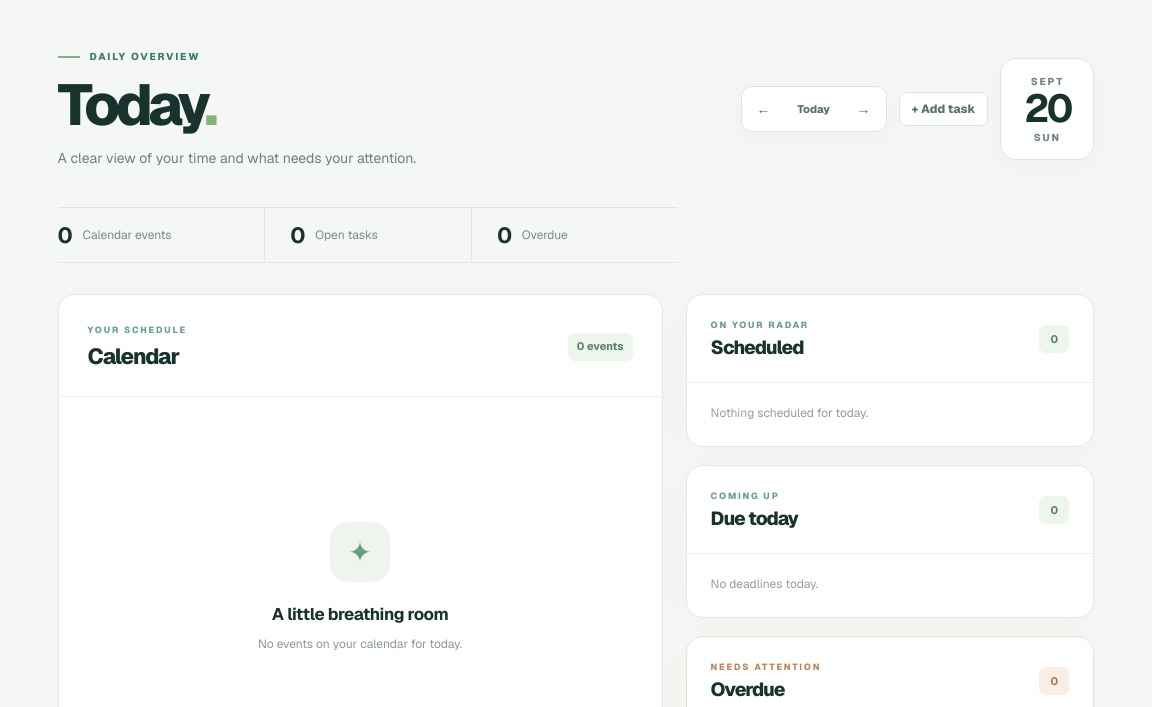
Test case: Day navigation › does not adopt a slow earlier load after a newer day was selected
Click the link named "Previous day": (764, 109) [757,100,771,118]
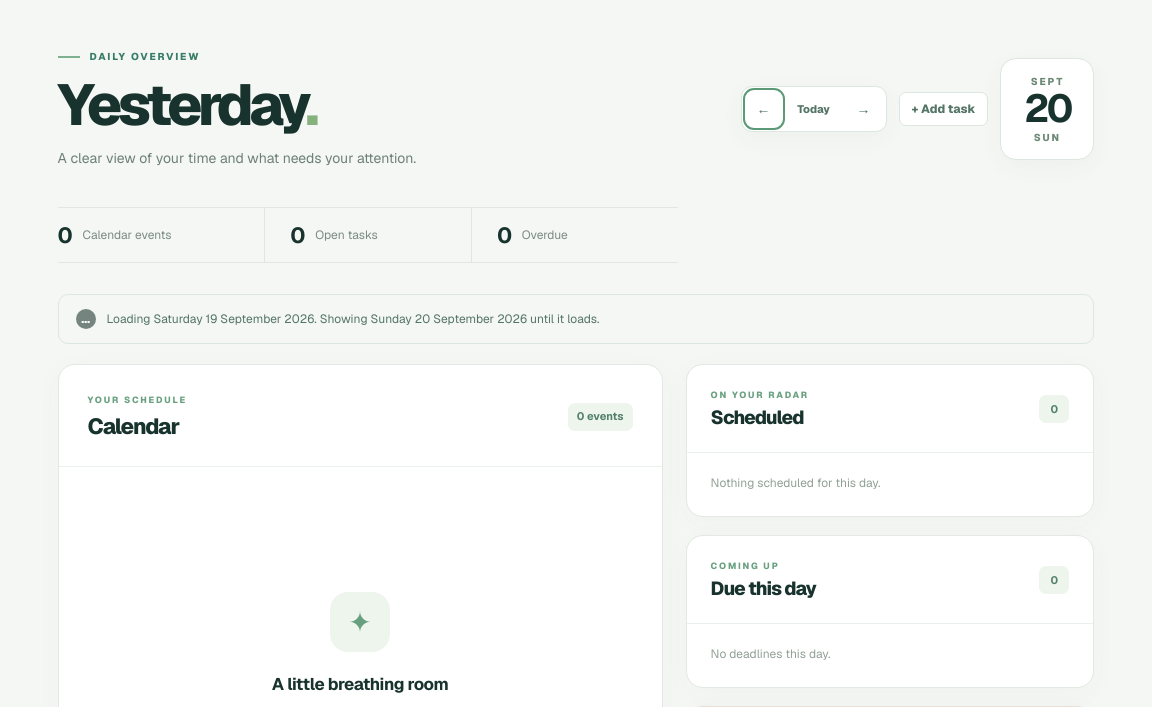
expect the heading "Yesterday." is shown: met, box [58,67,315,142]
Click the link "Today": (814, 109) [797,102,830,116]
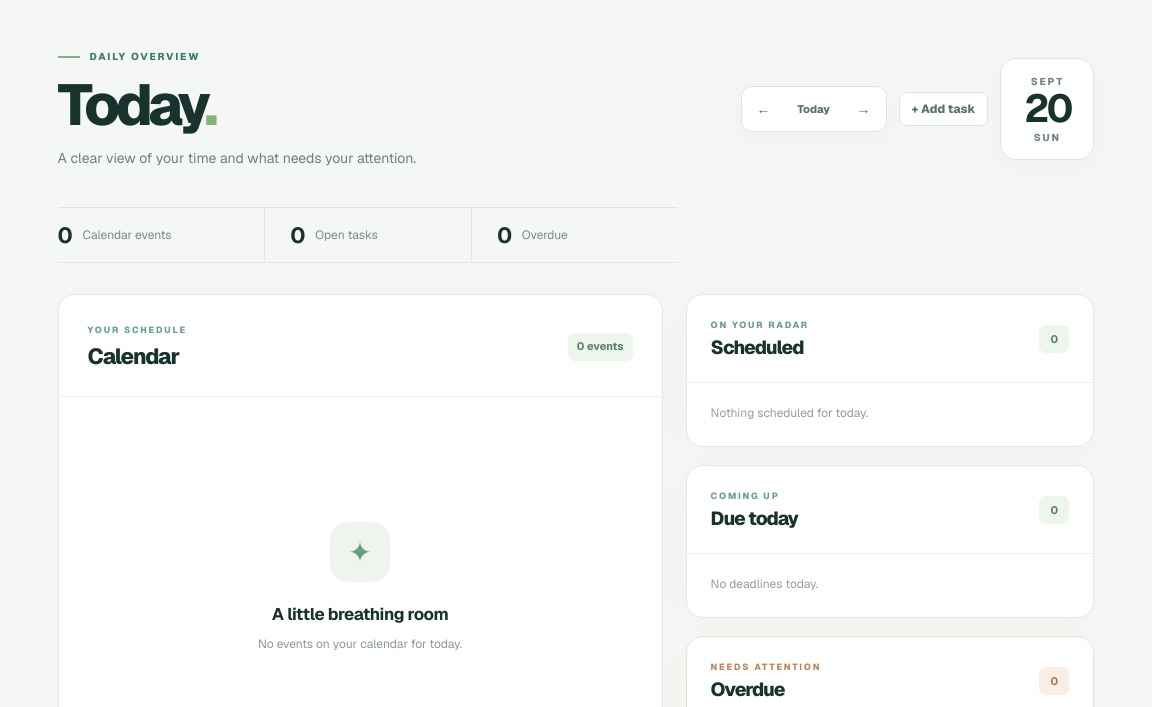
expect the heading "Today." is shown: met, box [58,67,214,142]
